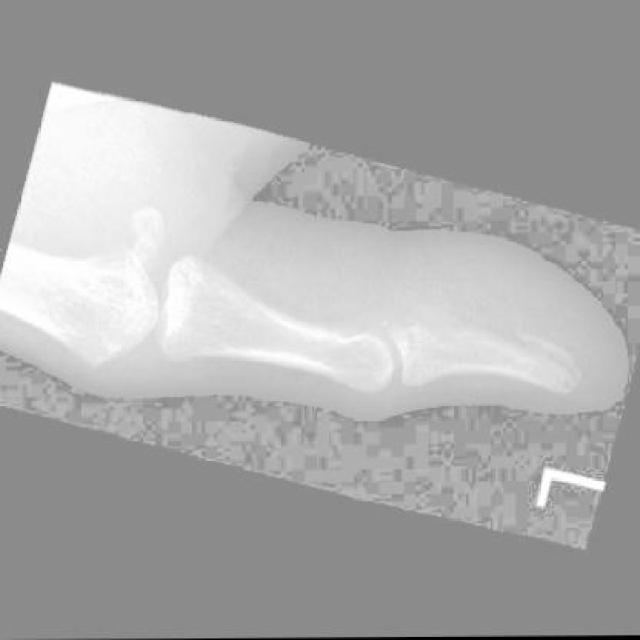Fracture: (383, 272, 605, 423)
